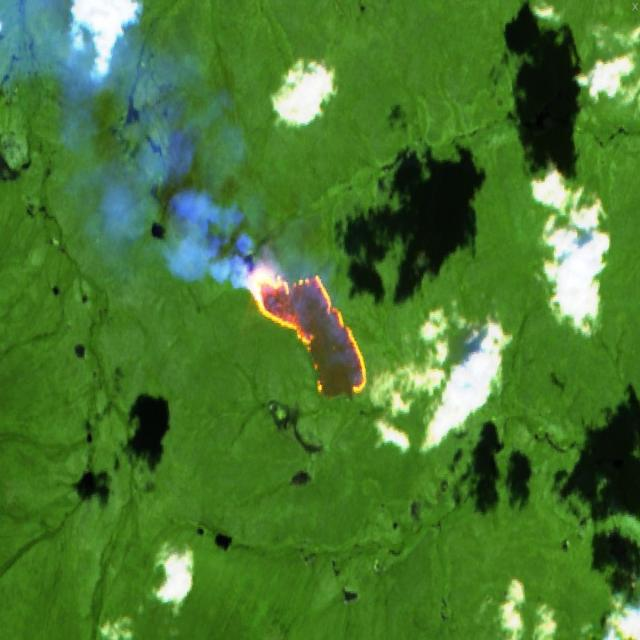fire: (244, 258, 369, 398)
